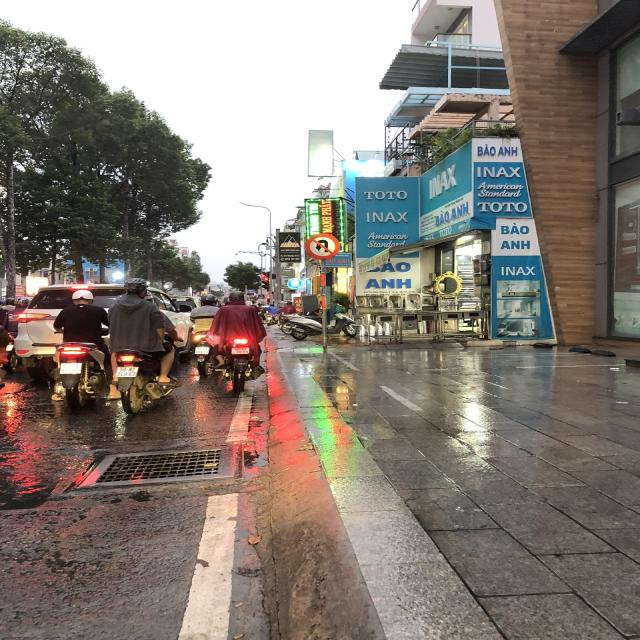Bien bao cam quay dau xe: (303, 231, 342, 261)
